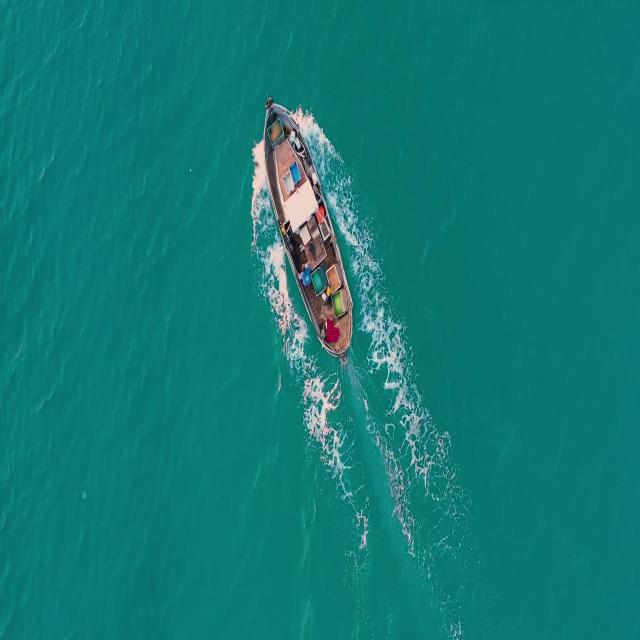ship: (262, 89, 356, 360)
